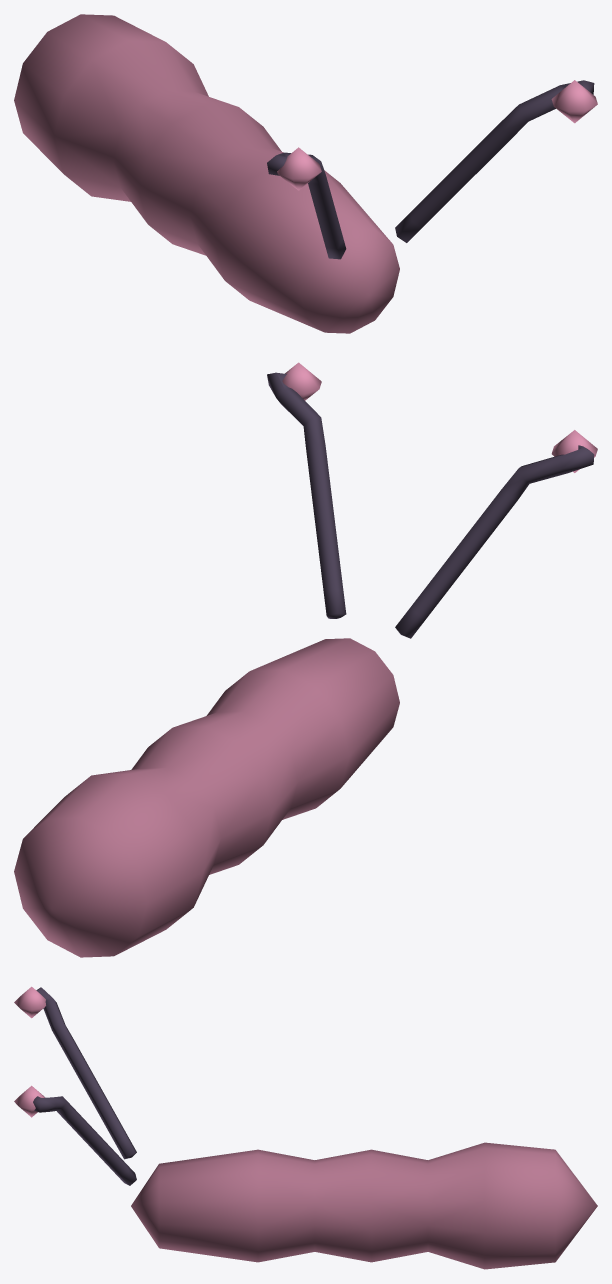
The model's file is SH_Fly_Body_Pink.fbx.
The picture shows the model from 3 angles, top to bottom: view 1: azimuth 30°, elevation 25°; view 2: azimuth 150°, elevation 25°; view 3: azimuth 270°, elevation 25°; orthographic projection. The views are drawn at different scales.
Parts seen in each view (by area): view 1: SH_Fly_Body_Pink; view 2: SH_Fly_Body_Pink; view 3: SH_Fly_Body_Pink.
Part boxes in pixels (<box>): SH_Fly_Body_Pink: <box>14,14,597,333</box>; SH_Fly_Body_Pink: <box>14,362,597,957</box>; SH_Fly_Body_Pink: <box>14,986,597,1269</box>.
Bounding box in the file's own units: 0.0393 × 0.0355 × 0.0825.
